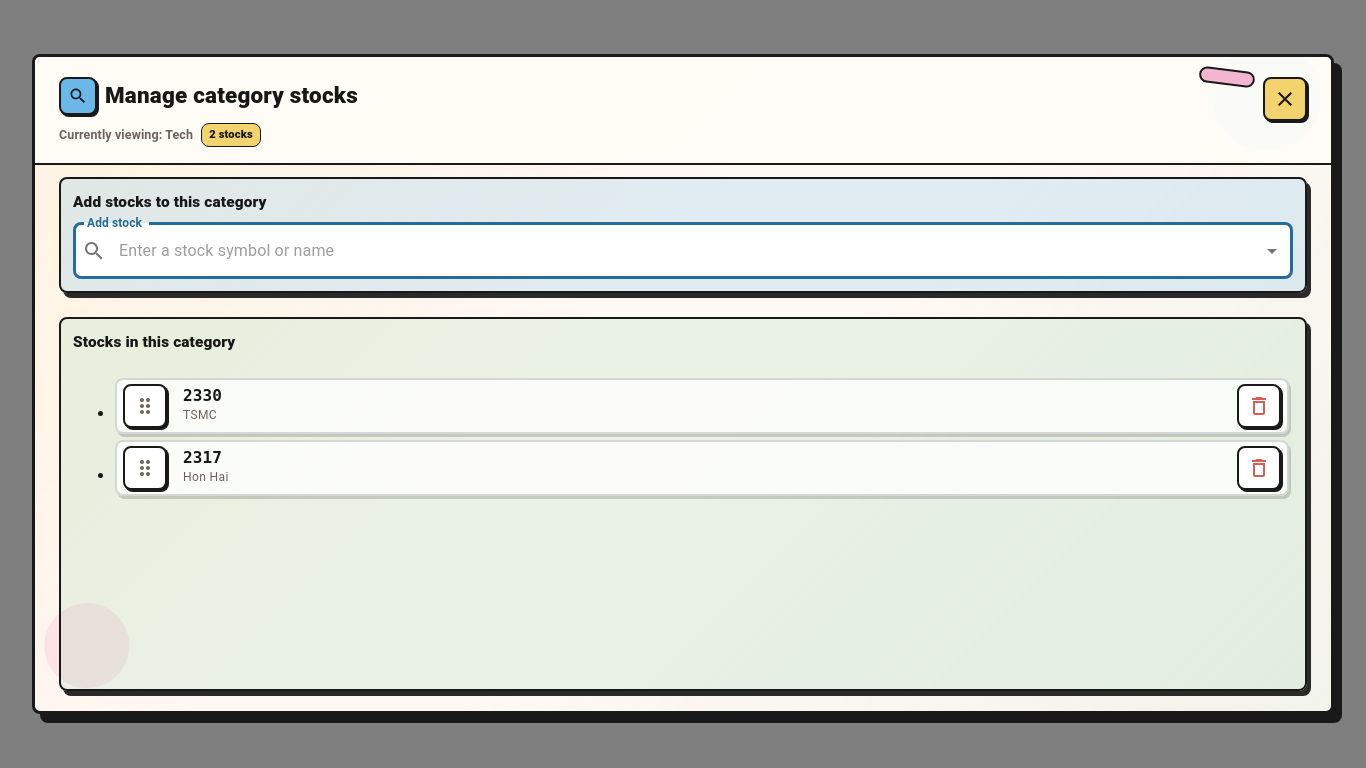
Scenario: AddStockDialog category stock management › rolls back the order and keeps the dialog open when a write fails
Click the button named "Remove Hon Hai from this category": (1259, 468) [1237,446,1281,490]
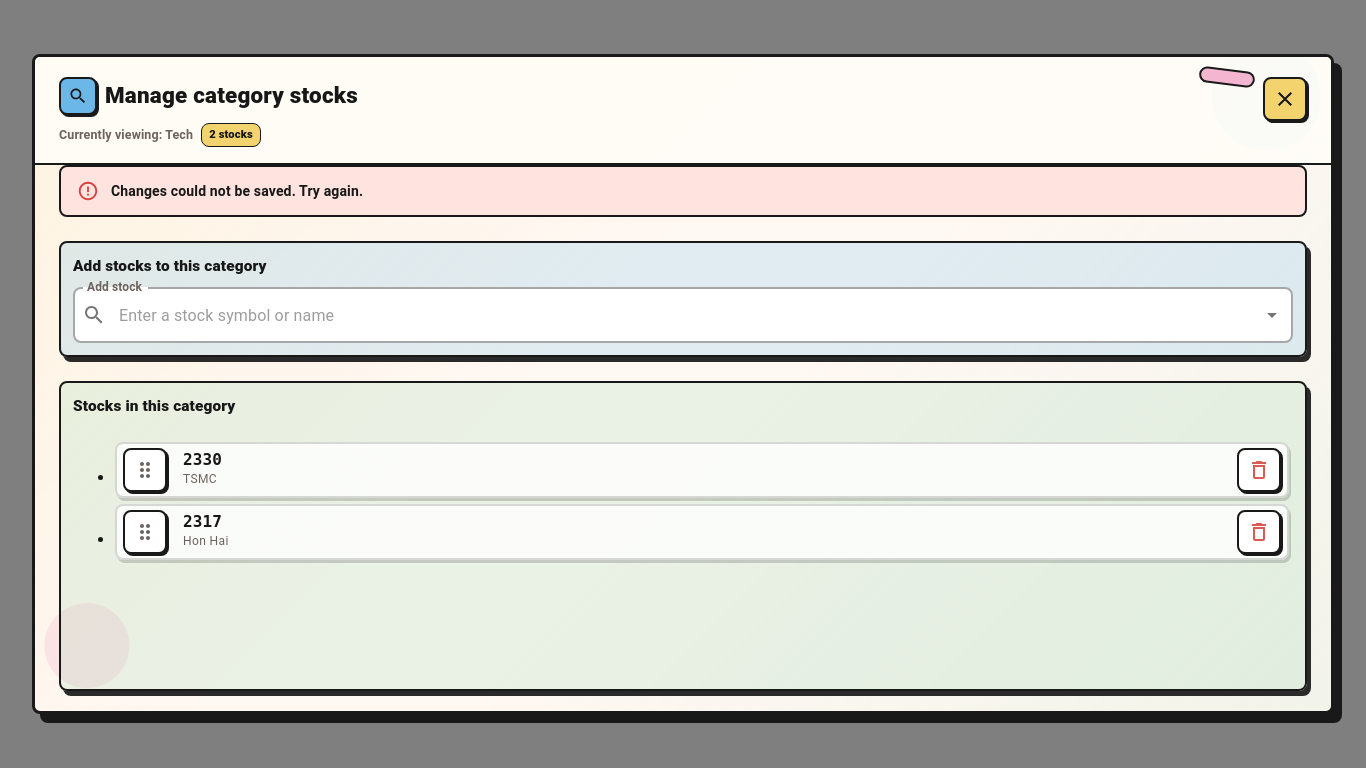
Expected: the message reads "Changes could not be saved. Try again.", [111,183,363,199]
